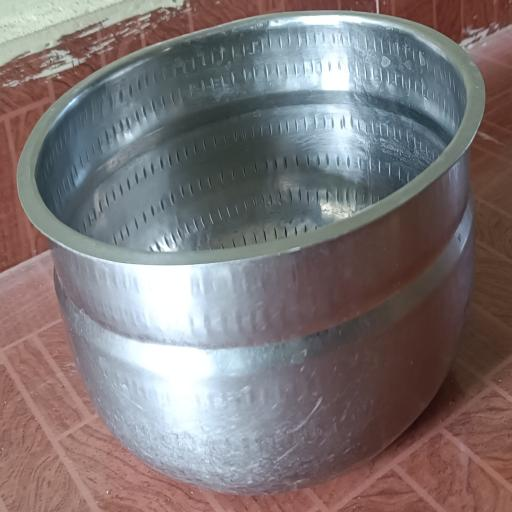vessel: (18, 13, 484, 493)
